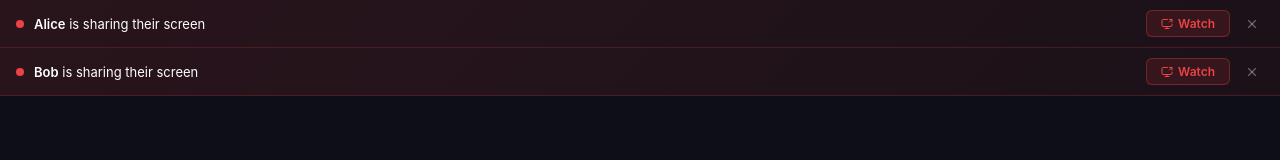
Test: BroadcastBanner › dismisses a banner when dismiss button is clicked
The image size is (1280, 160).
# Dismiss Alice's banner.
Click the button titled "Dismiss" in the row of "Alice": (1252,24) [1240,12,1264,36]
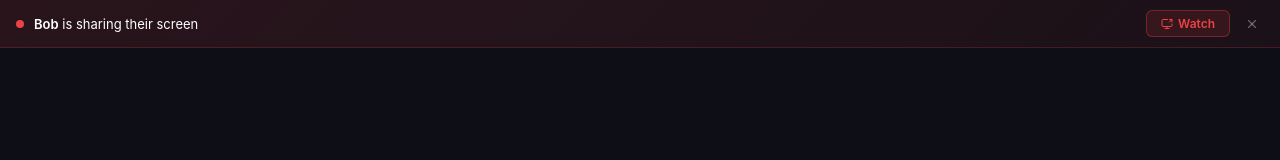
Check: the text "Bob" is shown, box [34,16,59,32]
Check: the text "Alice" is gone
